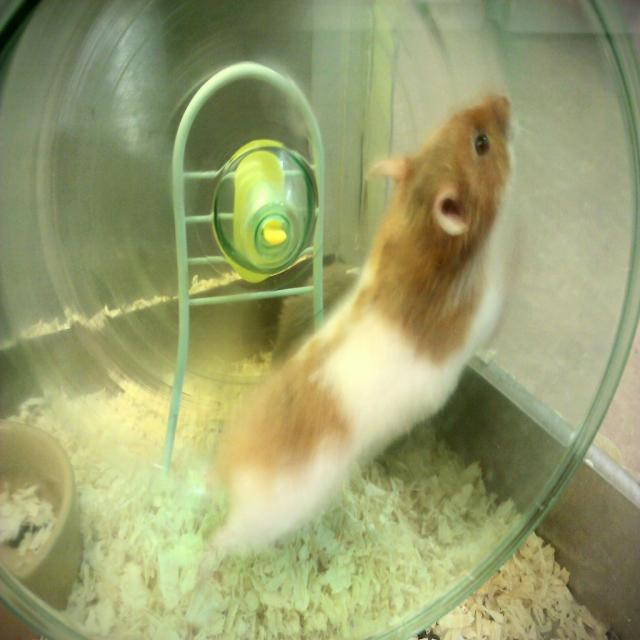rat: (208, 87, 528, 558)
